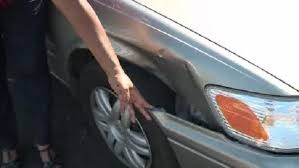Dent: (117, 31, 220, 120)
